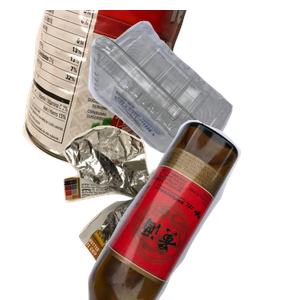glass: (85, 120, 300, 300)
metal: (20, 10, 199, 172)
plastic: (86, 18, 300, 171)
trash: (61, 123, 273, 300)
